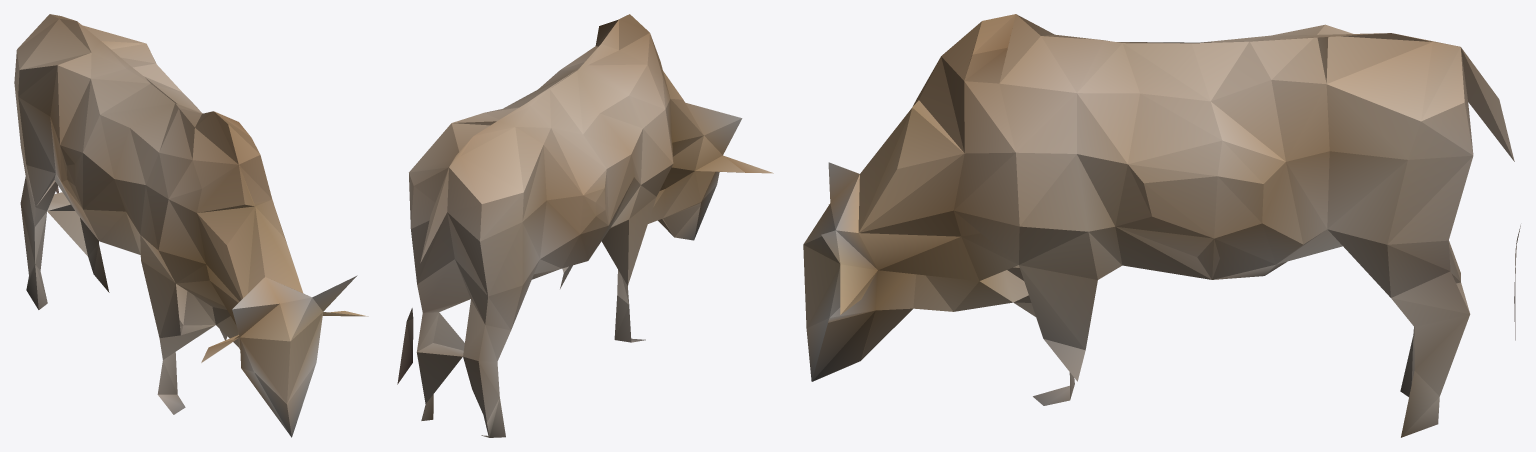
File: cow_lod2.glb
The picture shows the model from 3 angles, left to right: view 1: azimuth 30°, elevation 25°; view 2: azimuth 150°, elevation 25°; view 3: azimuth 270°, elevation 25°; orthographic projection. The views are drawn at different scales.
Parts seen in each view (by area): view 1: geometry_0; view 2: geometry_0; view 3: geometry_0.
Part boxes in pixels (<box>): geometry_0: <box>14,14,368,437</box>; geometry_0: <box>397,14,773,437</box>; geometry_0: <box>803,14,1520,437</box>.
Size of the model in its own units: 0.3402 by 0.5665 by 0.9115.
